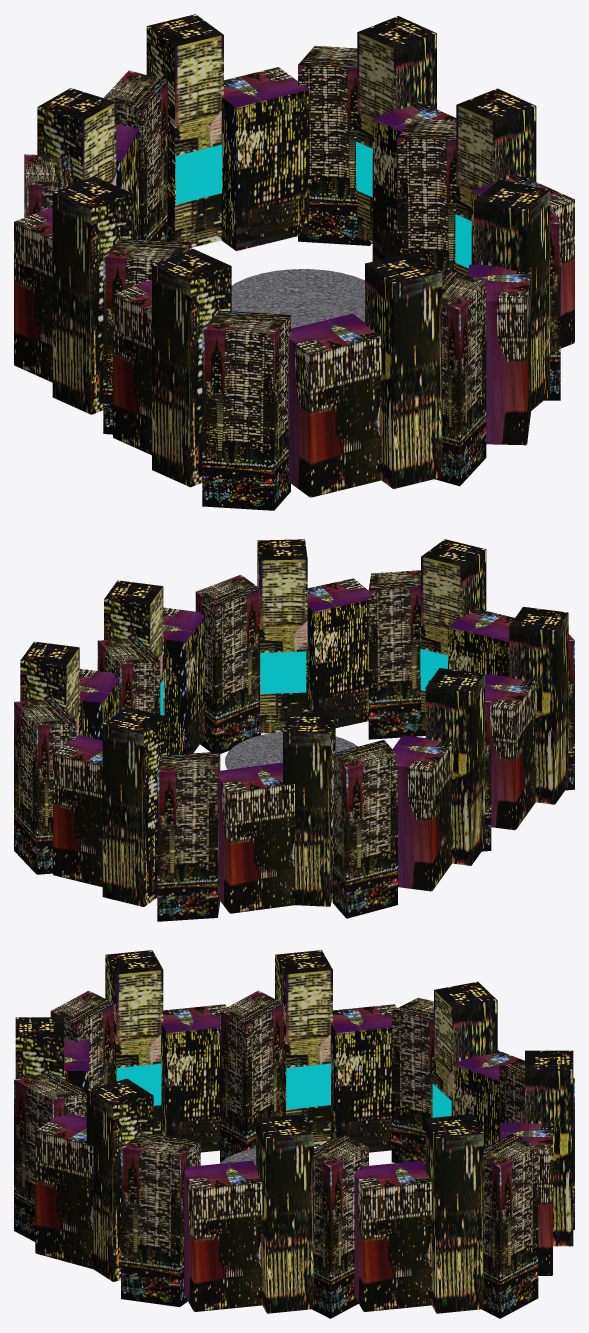
File: blocktest.glb
3 views of the same model, one above another, from view 1: azimuth 30°, elevation 25°; view 2: azimuth 150°, elevation 25°; view 3: azimuth 270°, elevation 25° (orthographic). The views are drawn at different scales.
Visible parts, largest first — view 1: Cube.014, Cube.010, Cube.009, Cube.001, Cube.015, Cube.012, Cube, Cube.005, Cube.011, Cube.019, Cube.008, Cube.018 (+16 smaller); view 2: Cube, Cube.021, Cube.023, Cube.002, Cube.020, Cube.011, Cube.018, Cube.022, Cube.012, Cube.015, Cube.016, Cube.005 (+15 smaller); view 3: Cube.007, Cube.004, Cube.020, Cube.003, Cube.006, Cube.005, Cube.017, Cube.016, Cube.018, Cube.013, Cube.019, Cube.008 (+15 smaller).
Part boxes in pixels (x1,y1,x2,y2): Cube.014: (202,311,290,510); Cube.010: (288,313,381,497); Cube.009: (365,251,442,488); Cube.001: (221,67,309,250); Cube.015: (52,176,132,414); Cube.012: (152,249,231,487); Cube: (146,14,223,247); Cube.005: (298,46,371,245); Cube.011: (434,270,486,486); Cube.019: (474,179,550,410); Cube.008: (397,118,456,273); Cube.018: (468,264,531,445); Cube: (102,706,167,906); Cube.021: (219,762,294,913); Cube.023: (332,740,397,918); Cube.002: (157,751,220,921); Cube.020: (195,574,260,753); Cube.011: (368,570,425,739); Cube.018: (307,578,368,727); Cube.022: (283,711,335,906); Cube.012: (509,606,568,804); Cube.015: (425,668,484,865); Cube.016: (392,735,451,891); Cube.005: (14,699,76,874); Cube.007: (184,1160,262,1311); Cube.004: (354,1160,431,1311); Cube.020: (121,1133,200,1306); Cube.003: (425,1114,483,1313); Cube.006: (256,1114,313,1313); Cube.005: (482,1134,538,1318); Cube.017: (220,990,283,1162); Cube.016: (330,1004,396,1152); Cube.018: (35,1114,93,1268); Cube.013: (161,1004,226,1152); Cube.019: (86,1078,153,1281); Cube.008: (312,1133,368,1318).
Bounding box in the file's own units: 92.17 × 42.45 × 116.
Materials: 4 (3 with a texture image).
